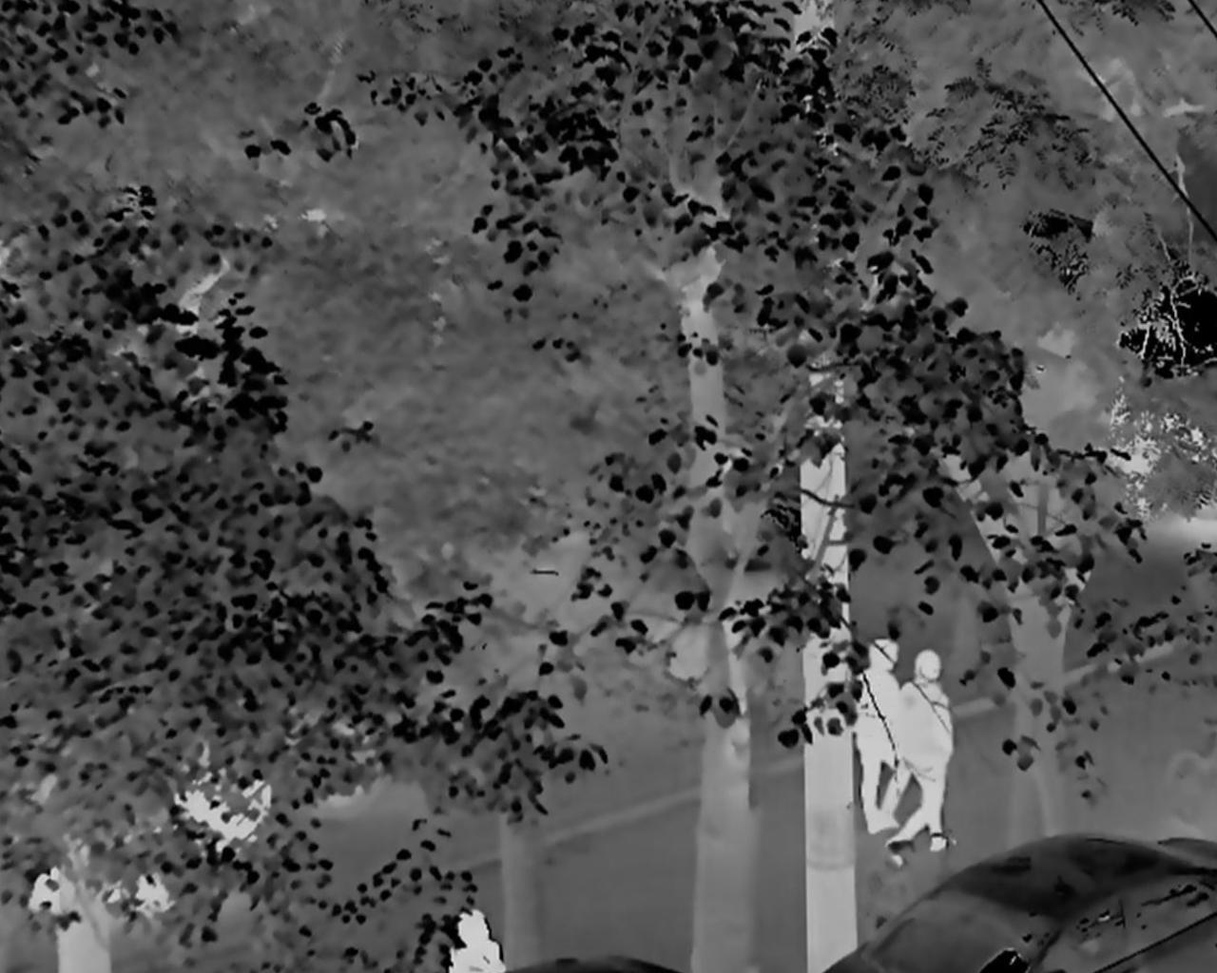person: (895, 652, 961, 867), (855, 640, 908, 837)
